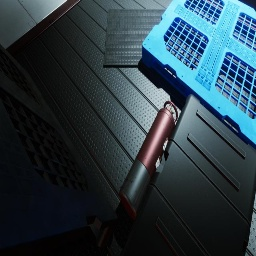NitrogenTank ,: (119, 100, 178, 220)
